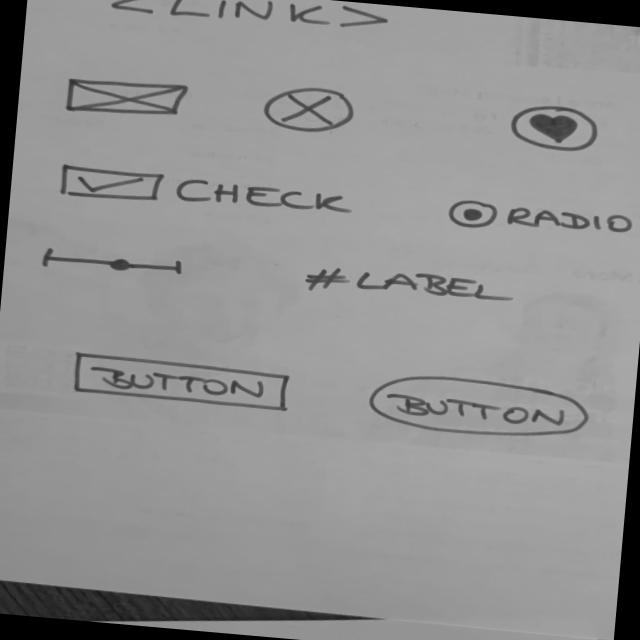button: (364, 369, 598, 450), (66, 348, 299, 416)
checkbox: (56, 160, 362, 225)
icon-button: (507, 98, 606, 156)
image: (57, 72, 194, 125), (261, 82, 359, 138)
label: (299, 259, 519, 311)
link: (106, 1, 396, 39)
radio: (443, 195, 640, 244)
slider: (34, 245, 193, 285)
